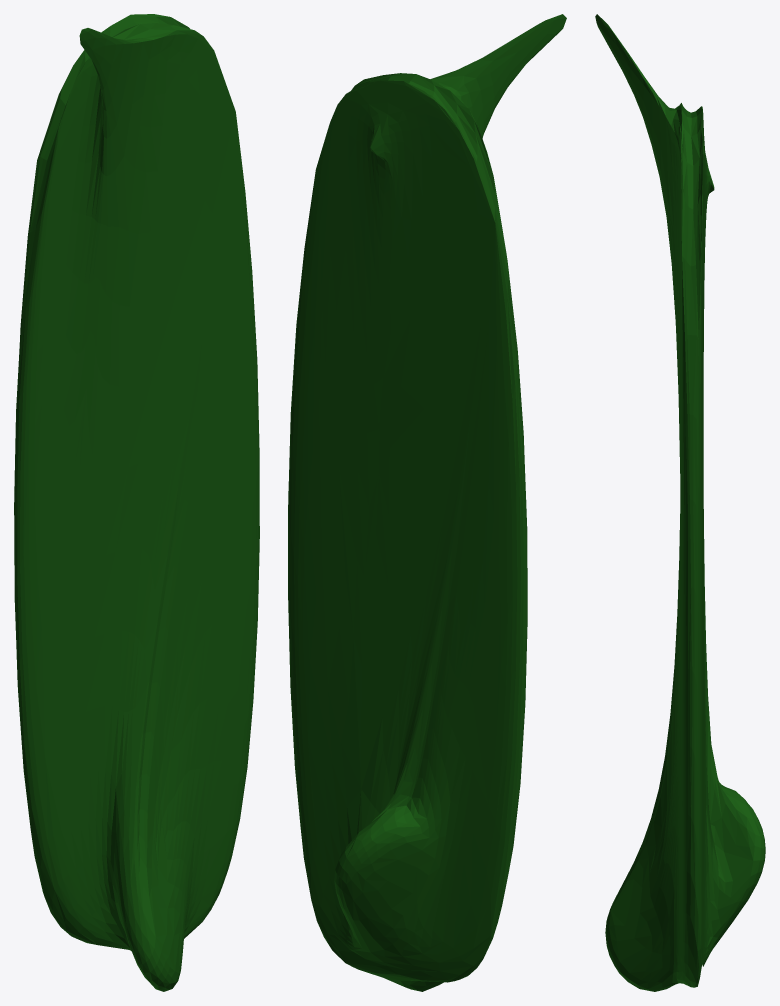
3 views of the same model, side by side, from view 1: azimuth 30°, elevation 25°; view 2: azimuth 150°, elevation 25°; view 3: azimuth 270°, elevation 25° (orthographic). The views are drawn at different scales.
Visible parts, largest first — view 1: 499_Cube.2020; view 2: 499_Cube.2020; view 3: 499_Cube.2020.
Part boxes in pixels (box(x1,y1,x2,y2)): 499_Cube.2020: box(14, 14, 259, 991); 499_Cube.2020: box(288, 14, 566, 991); 499_Cube.2020: box(595, 14, 765, 991).
Bounding box in the file's own units: 3.22 × 12.69 × 2.12.
